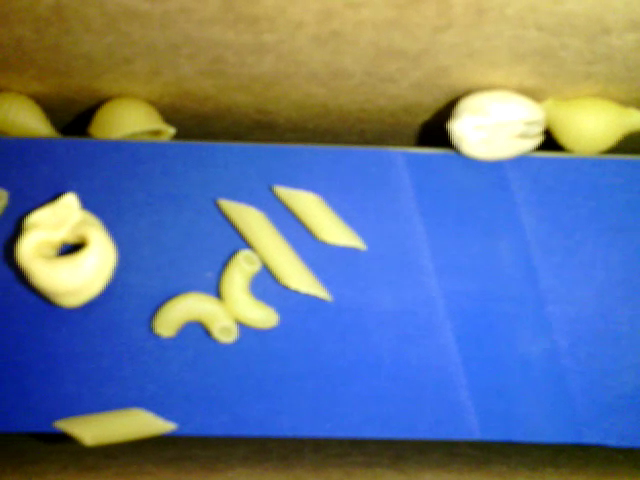elbow: (219, 247, 281, 330), (150, 291, 240, 343)
penne: (212, 195, 330, 301), (271, 184, 372, 253), (54, 405, 181, 446)
shell: (534, 98, 639, 154), (91, 97, 177, 139), (1, 92, 66, 139)
tortellini: (17, 192, 117, 309)
